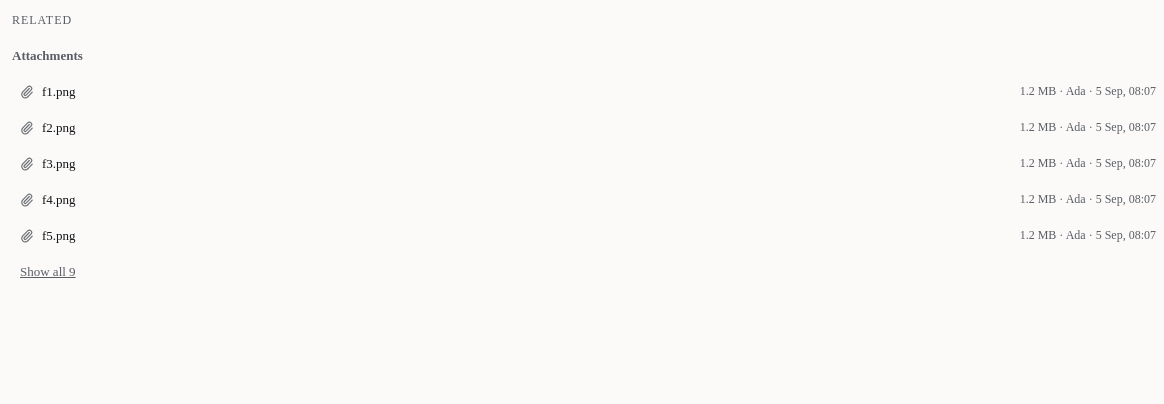
it: TaskRelated › caps long lists at five until Show all
The width and height of the screenshot is (1164, 404).
Check: the number of links is 5, box [12, 74, 1163, 110]; [12, 110, 1163, 146]; [12, 146, 1163, 182]; [12, 182, 1163, 218]; [12, 218, 1163, 254]
Click the button with aria-label "Show all 9 attachments": click(48, 272) [12, 254, 84, 290]
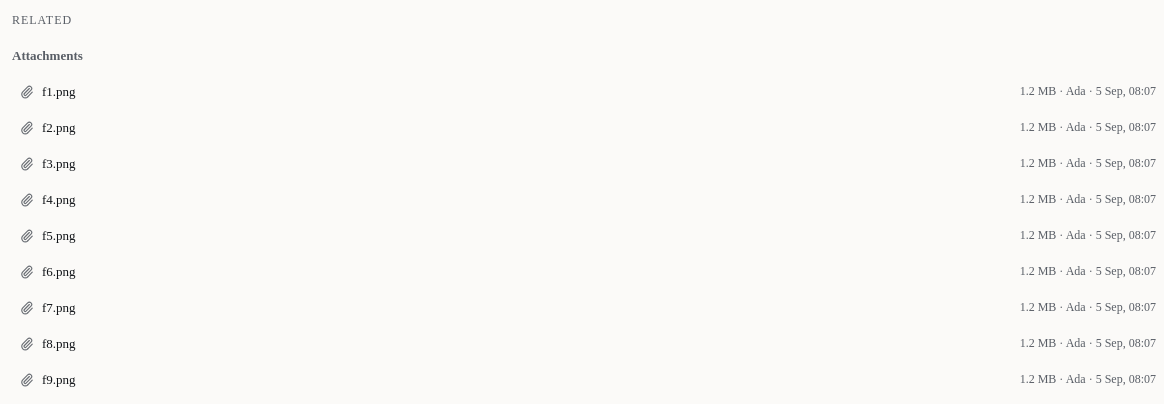
Check: the number of links is 9
Check: the button "Show all" is gone
